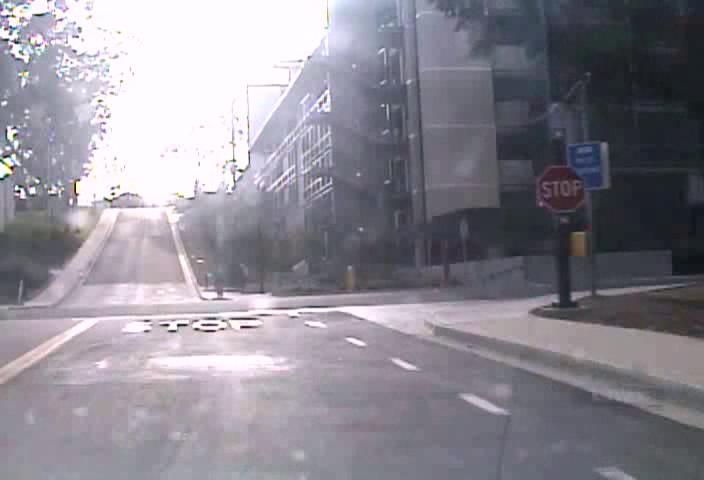stop: (535, 164, 586, 213)
